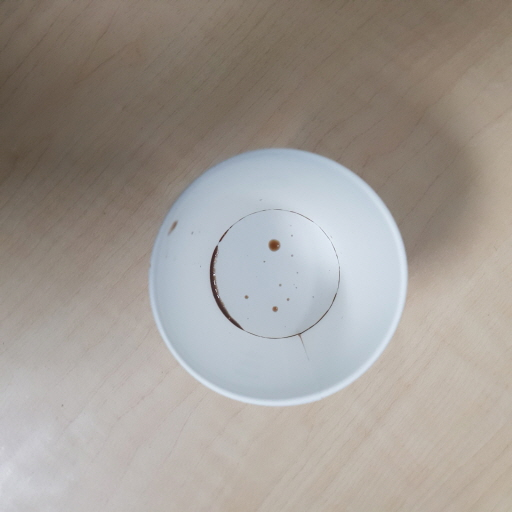Paper_1: (150, 142, 407, 408)
